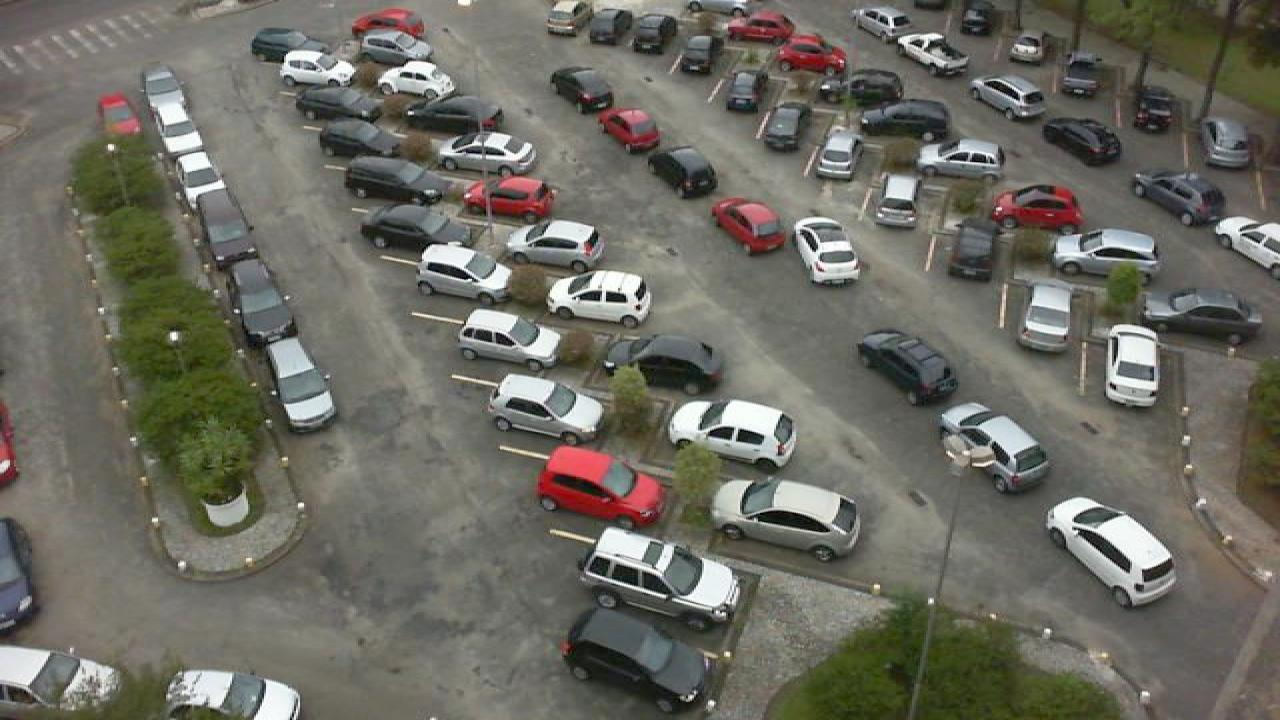Car: (578, 526, 748, 632), (560, 604, 714, 714), (1046, 494, 1180, 611), (710, 476, 862, 562), (936, 399, 1052, 493), (536, 444, 664, 529), (664, 397, 800, 474), (484, 370, 606, 448), (0, 643, 122, 720), (854, 329, 964, 405), (598, 332, 728, 395), (162, 668, 304, 720), (1136, 289, 1262, 345), (454, 308, 564, 372), (266, 334, 338, 428), (546, 269, 654, 328), (414, 243, 516, 305), (356, 202, 470, 254), (500, 217, 606, 272), (1052, 227, 1164, 278), (230, 259, 298, 342), (340, 155, 448, 206), (790, 214, 864, 287), (1130, 170, 1226, 226), (194, 189, 260, 267), (460, 174, 558, 224), (1104, 324, 1162, 408), (992, 185, 1088, 235), (710, 197, 788, 255), (438, 132, 536, 176), (858, 98, 956, 140), (404, 95, 506, 135), (918, 136, 1006, 182), (1042, 115, 1124, 164), (646, 145, 720, 199), (1210, 214, 1280, 271), (1018, 280, 1074, 351), (314, 118, 404, 161), (944, 218, 1002, 282), (290, 84, 386, 122), (376, 58, 458, 102), (968, 75, 1050, 118), (548, 65, 618, 115), (894, 29, 972, 72), (278, 49, 360, 88), (596, 108, 664, 153), (870, 171, 922, 228), (758, 101, 816, 152), (354, 29, 436, 65), (156, 109, 208, 162), (842, 66, 906, 109), (812, 129, 862, 181), (1206, 116, 1256, 168), (250, 26, 324, 61), (140, 64, 188, 117), (776, 38, 848, 73), (1130, 82, 1180, 132), (176, 151, 228, 199), (1052, 50, 1102, 96), (722, 8, 796, 39), (352, 7, 428, 37), (96, 92, 144, 138), (850, 5, 914, 38), (672, 31, 718, 76), (634, 11, 680, 55), (588, 8, 634, 50), (1004, 28, 1046, 69), (544, 0, 588, 36), (960, 0, 996, 36)
